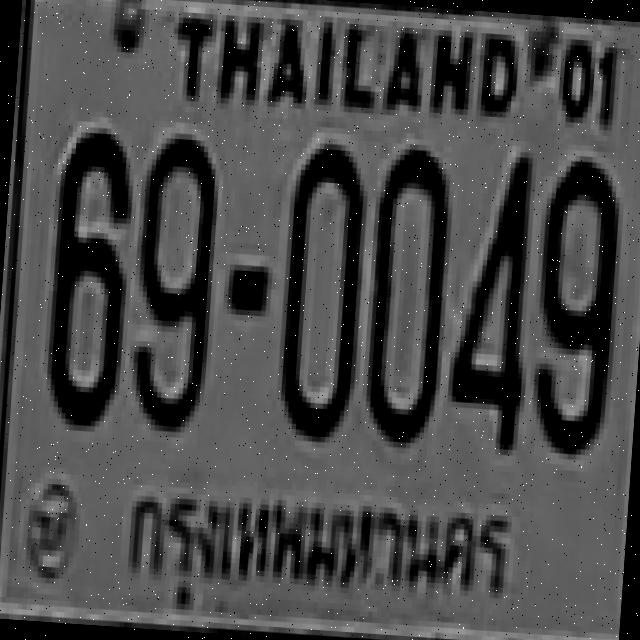0: (358, 144, 452, 442), (274, 138, 367, 436), (534, 156, 620, 343)
4: (442, 148, 535, 450)
9: (125, 130, 222, 428), (524, 158, 622, 450)
Bangkok: (109, 462, 536, 634)
